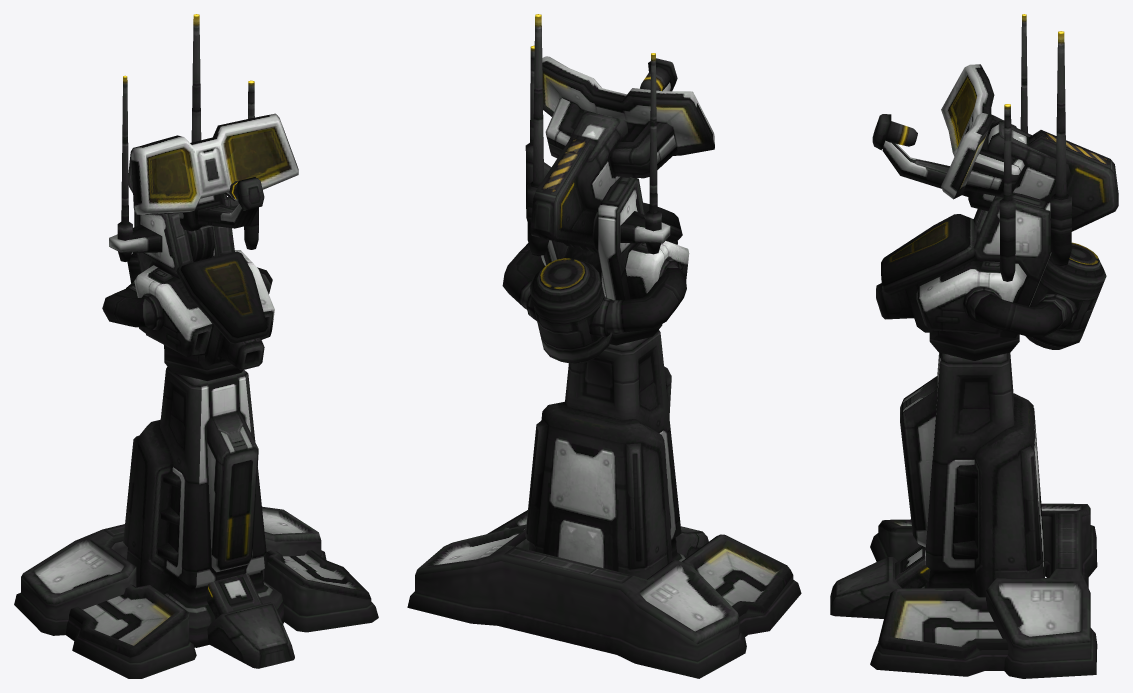
File: UED_HiveMindEmulator_V1.glb
3 views of the same model, side by side, from view 1: azimuth 30°, elevation 25°; view 2: azimuth 150°, elevation 25°; view 3: azimuth 270°, elevation 25° (orthographic). The views are drawn at different scales.
Parts seen in each view (by area): view 1: Mesh; view 2: Mesh; view 3: Mesh.
Part boxes in pixels (box(x1,y1,x2,y2)): Mesh: box(14, 14, 378, 678); Mesh: box(407, 14, 801, 678); Mesh: box(830, 14, 1118, 678).
Size of the model in its own units: 2.25 by 4.22 by 1.87.
1 material, 1 textured.
